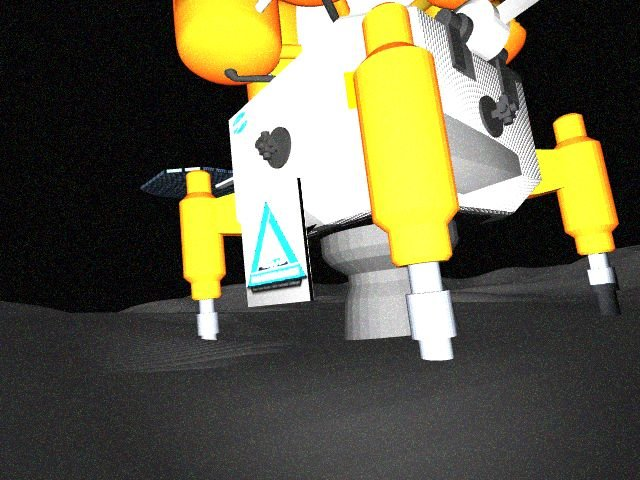basemarker: (247, 202, 308, 295)
